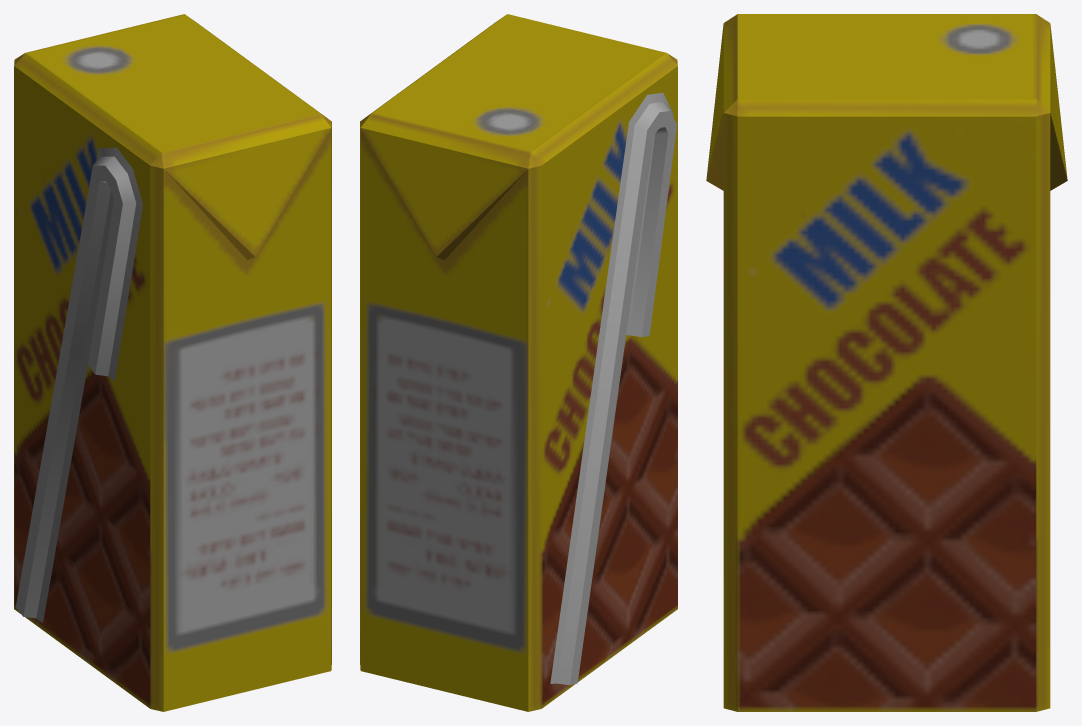
File: hypercasual_prop004.FBX
3 renders of one model, left to right at view 1: azimuth 30°, elevation 25°; view 2: azimuth 150°, elevation 25°; view 3: azimuth 270°, elevation 25°, orthographic. The views are drawn at different scales.
Parts seen in each view (by area): view 1: hypercasual_prop004; view 2: hypercasual_prop004; view 3: hypercasual_prop004.
Part boxes in pixels (bbox=[...]): hypercasual_prop004: bbox=[14, 14, 331, 711]; hypercasual_prop004: bbox=[360, 14, 677, 711]; hypercasual_prop004: bbox=[706, 14, 1067, 711].
Size of the model in its own units: 0.5058 by 1.37 by 0.7409.
1 material, 1 textured.
